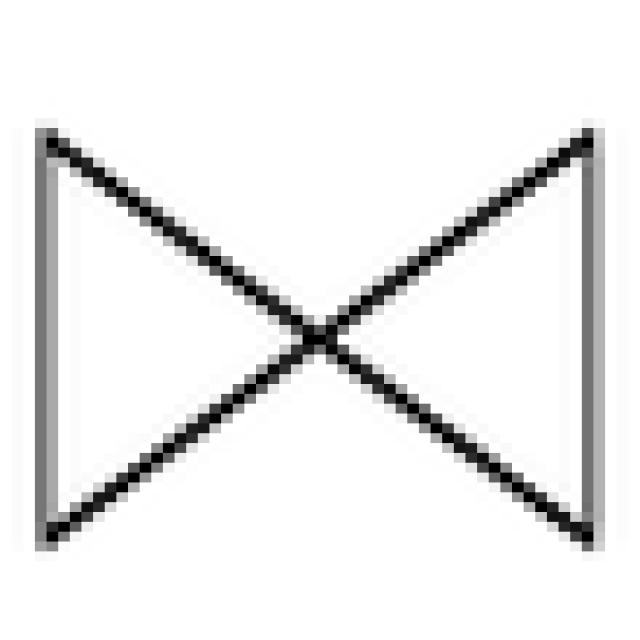Gate valve: (35, 128, 582, 542)
